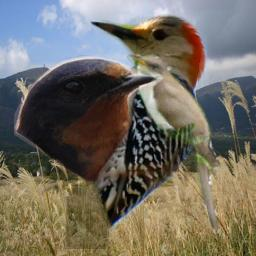Cuckoo: (123, 49, 224, 237)
Swallow: (14, 55, 162, 183)
Woodpecker: (57, 3, 237, 249)
